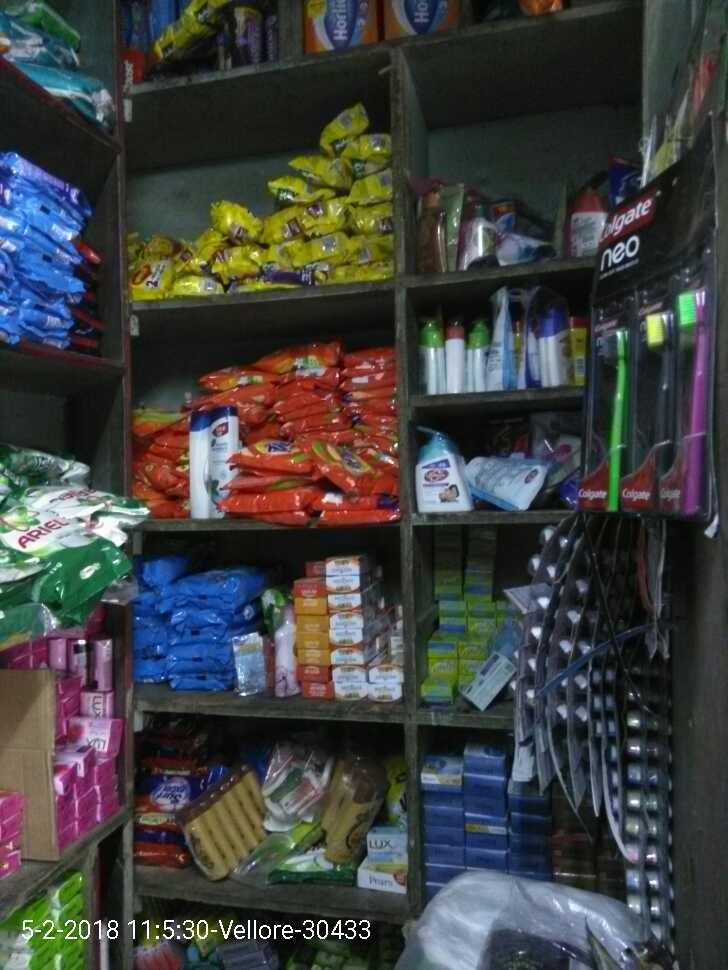home: (2, 498, 102, 584), (235, 431, 305, 473)
